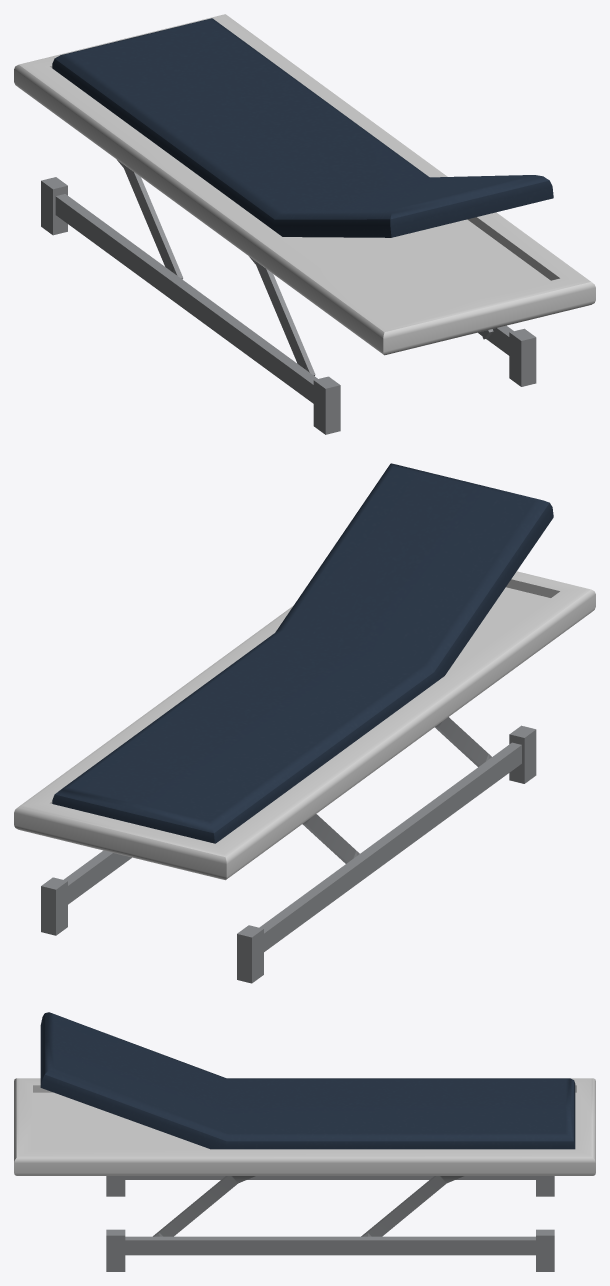
The model's file is MedicalBed02_obj.fbx.
3 renders of one model, top to bottom at view 1: azimuth 30°, elevation 25°; view 2: azimuth 150°, elevation 25°; view 3: azimuth 270°, elevation 25°, orthographic. The views are drawn at different scales.
Visible parts, largest first — view 1: polySurface18; view 2: polySurface18; view 3: polySurface18.
Boxes of the visible parts, left/top/right/bottom form: polySurface18: left=14, top=14, right=595, bottom=434; polySurface18: left=14, top=463, right=595, bottom=983; polySurface18: left=14, top=1012, right=595, bottom=1271.
Bounding box in the file's own units: 1.49 × 1.62 × 4.48.
